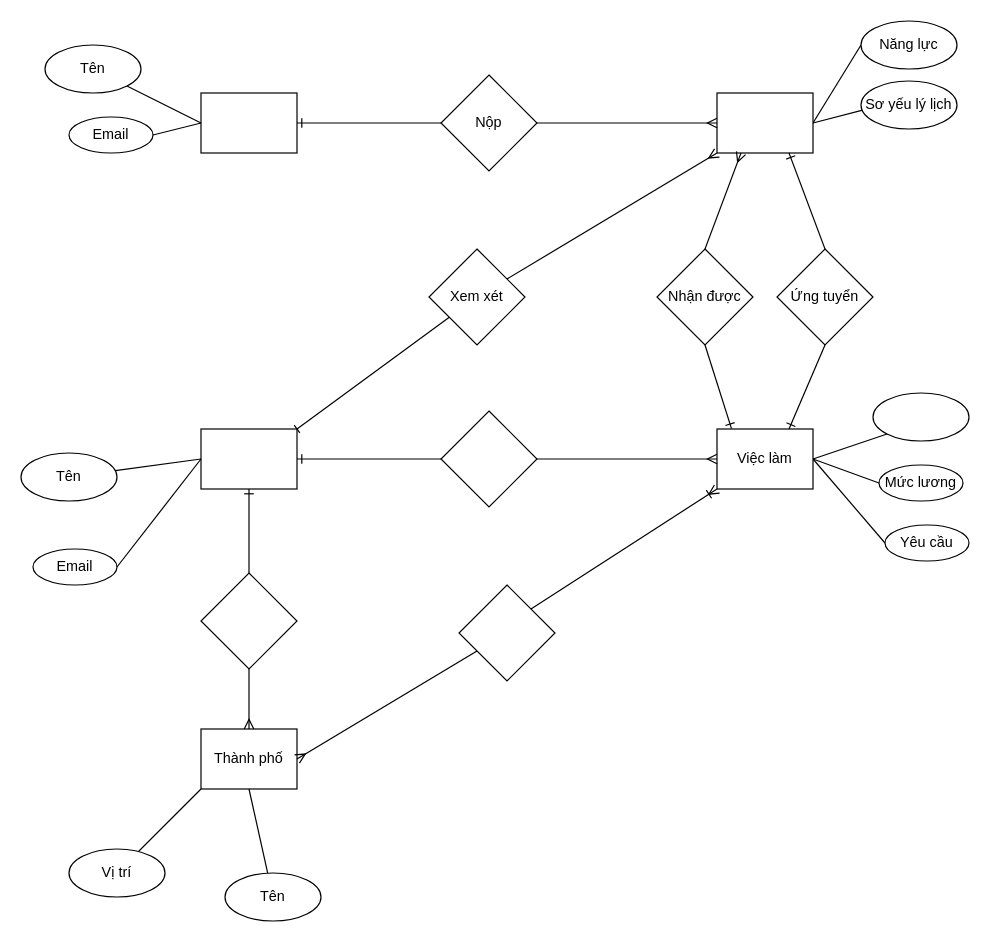
Image size: 990x942. Some labels were removed from this diagram. Each missing label, with the centre of its shape:
"Làm việc ở" goes at point 506,632.
"Nhà tuyển dụng" goes at point 248,458.
"Trụ sở tại" goes at point 248,620.
"Tuyển dụng" goes at point 488,458.
"Vị trí công việc" goes at point 920,416.
"Đơn ứng tuyển" goes at point 764,122.
"Ứng viên" goes at point 248,122.
